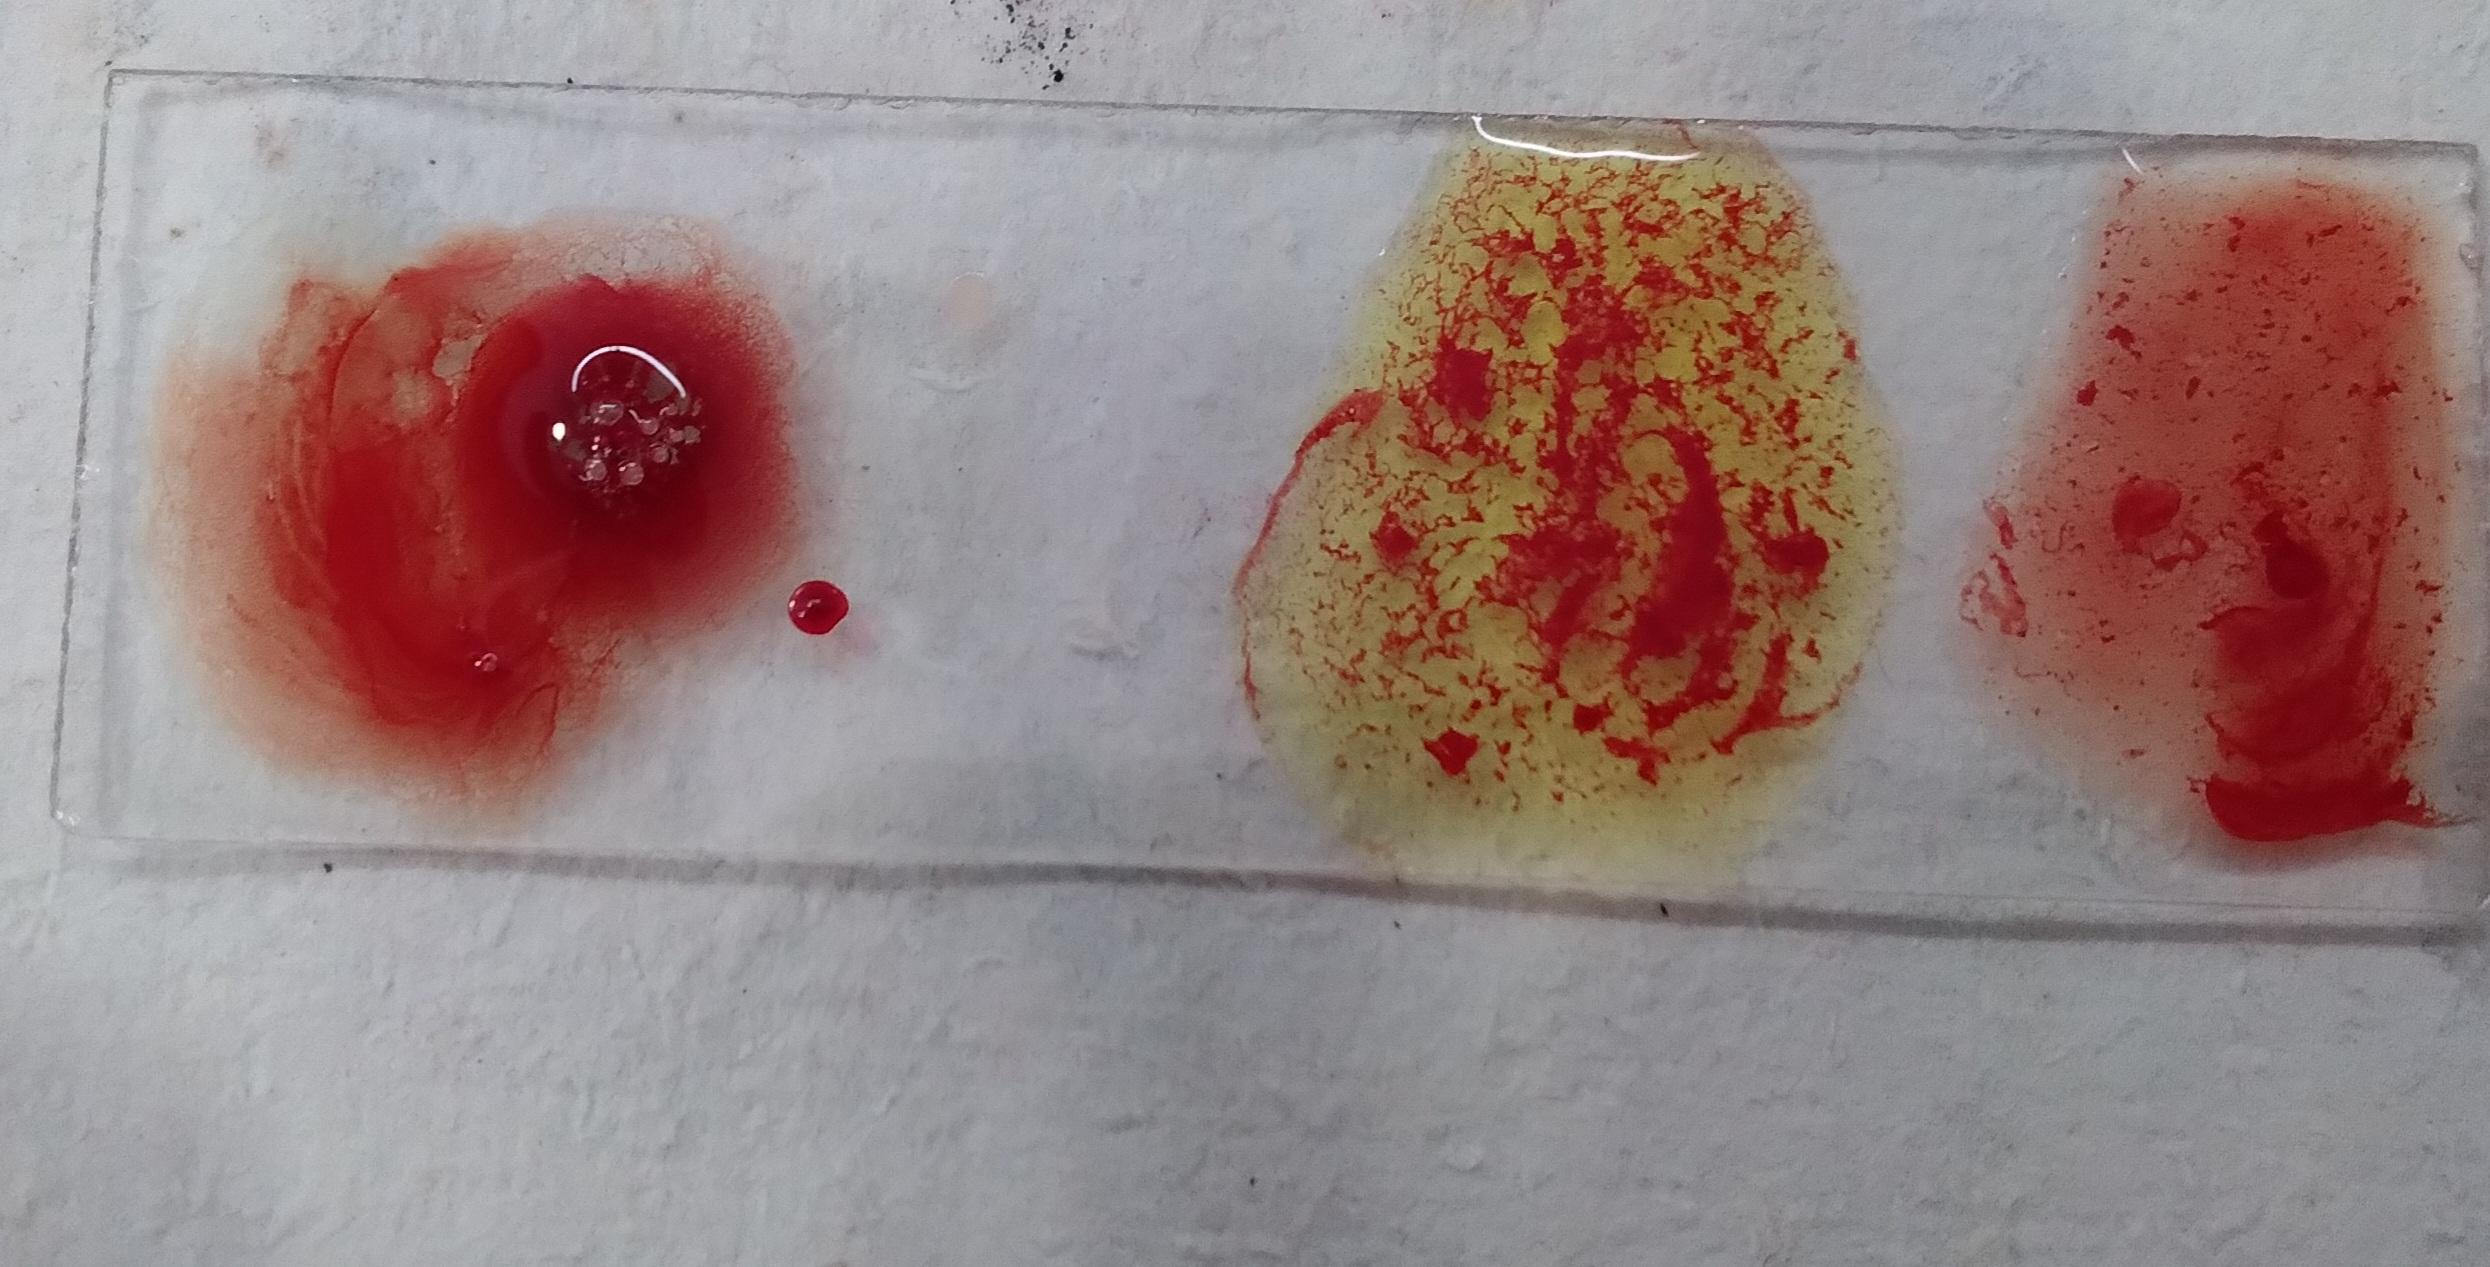A: (191, 225, 810, 782)
B: (1230, 115, 1874, 869)
D: (2007, 170, 2466, 865)
